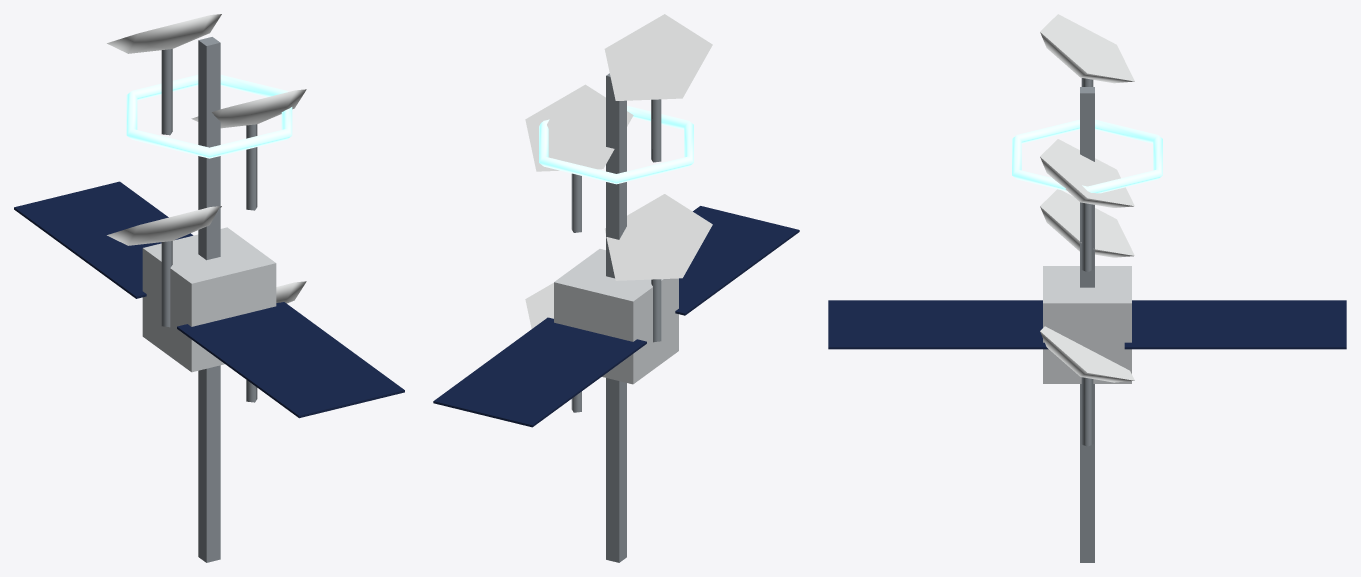
The model's file is space_orbital_relay_t2_lod2.glb.
The picture shows the model from 3 angles, left to right: view 1: azimuth 30°, elevation 25°; view 2: azimuth 150°, elevation 25°; view 3: azimuth 270°, elevation 25°; orthographic projection. The views are drawn at different scales.
Visible parts, largest first — view 1: body, solar_0, solar_1, antenna_3, antenna_1, antenna_2, antenna_0; view 2: body, solar_1, antenna_3, antenna_1, solar_0, antenna_2, antenna_0; view 3: body, solar_1, solar_0, antenna_2, antenna_3, antenna_0, antenna_1.
Part boxes in pixels (bbox=[...]): body: bbox=[126, 37, 292, 562]; solar_0: bbox=[177, 302, 404, 418]; solar_1: bbox=[14, 181, 193, 298]; antenna_3: bbox=[107, 14, 221, 135]; antenna_1: bbox=[107, 206, 221, 327]; antenna_2: bbox=[191, 89, 306, 210]; antenna_0: bbox=[246, 281, 306, 402]; body: bbox=[539, 73, 693, 562]; solar_1: bbox=[433, 317, 646, 427]; antenna_3: bbox=[604, 14, 712, 162]; antenna_1: bbox=[604, 194, 712, 342]; solar_0: bbox=[675, 206, 799, 315]; antenna_2: bbox=[525, 84, 633, 232]; antenna_0: bbox=[525, 283, 581, 412]; body: bbox=[1012, 87, 1162, 562]; solar_1: bbox=[1124, 300, 1346, 349]; solar_0: bbox=[828, 300, 1048, 349]; antenna_2: bbox=[1040, 139, 1134, 272]; antenna_3: bbox=[1040, 14, 1134, 86]; antenna_0: bbox=[1040, 326, 1134, 446]; antenna_1: bbox=[1040, 189, 1134, 257].
Size of the model in its own units: 5.22 by 15.4 by 14.
